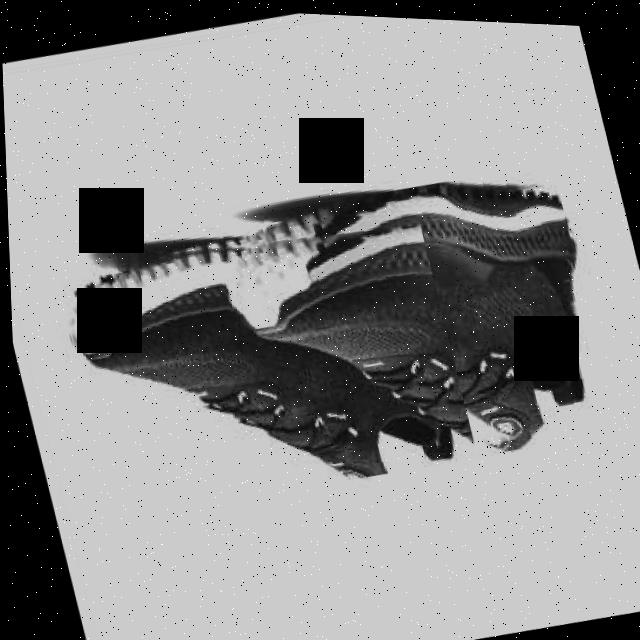shoe: (46, 188, 476, 532), (202, 146, 617, 500)
